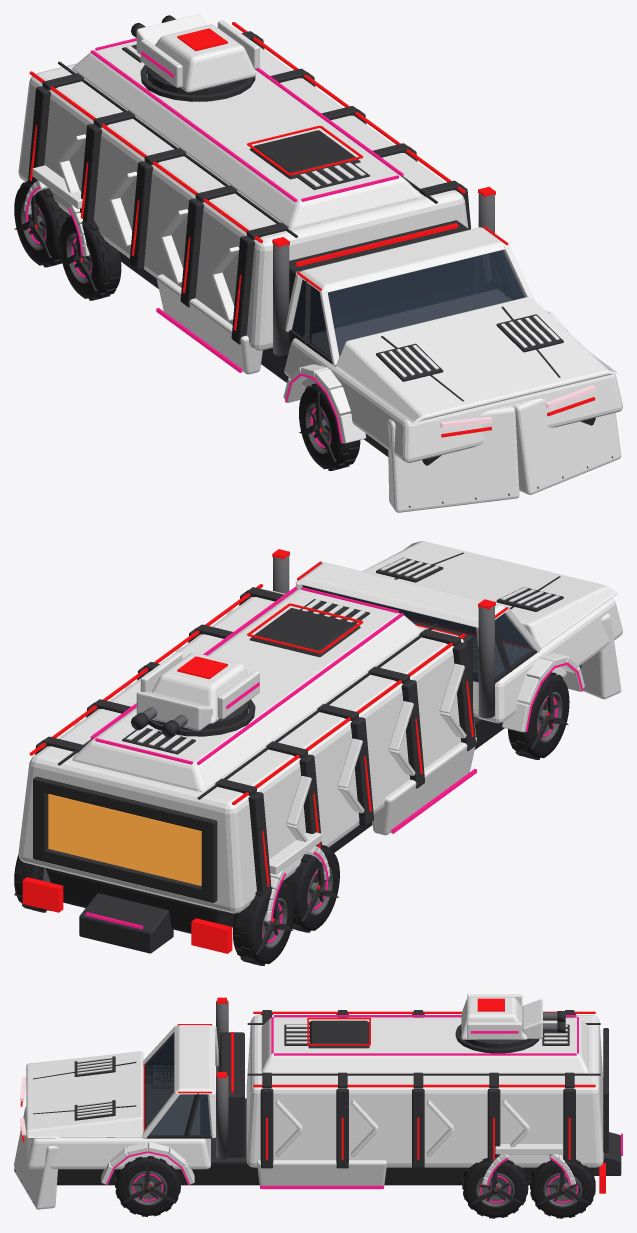
File: boss_hero.glb
3 views of the same model, one above another, from view 1: azimuth 30°, elevation 25°; view 2: azimuth 150°, elevation 25°; view 3: azimuth 270°, elevation 25° (orthographic). The views are drawn at different scales.
Parts seen in each view (by area): view 1: boss_body, turret_mesh, wheel_RL_mesh, wheel_FL_mesh, wheel_RL2_mesh; view 2: boss_body, turret_mesh, wheel_RL2_mesh, wheel_RL_mesh, wheel_FL_mesh, wheel_RR2_mesh; view 3: boss_body, turret_mesh, wheel_FR_mesh, wheel_RR_mesh, wheel_RR2_mesh.
Boxes of the visible parts, x1,y1,x2,y2 form: boss_body: (18,22,622,512); turret_mesh: (131,14,259,95); wheel_RL_mesh: (59,215,121,300); wheel_FL_mesh: (299,383,360,470); wheel_RL2_mesh: (14,180,69,267); boss_body: (18,541,622,953); turret_mesh: (131,651,259,737); wheel_RL2_mesh: (233,880,294,965); wheel_RL_mesh: (284,845,339,932); wheel_FL_mesh: (508,672,569,759); wheel_RR2_mesh: (14,854,50,912); boss_body: (14,997,622,1209); turret_mesh: (460,994,565,1048); wheel_FR_mesh: (115,1156,180,1216); wheel_RR_mesh: (462,1158,528,1218); wheel_RR2_mesh: (530,1157,595,1218).
Size of the model in its own units: 3.14 by 2.76 by 8.85.
Materials: 6 (1 with a texture image).
